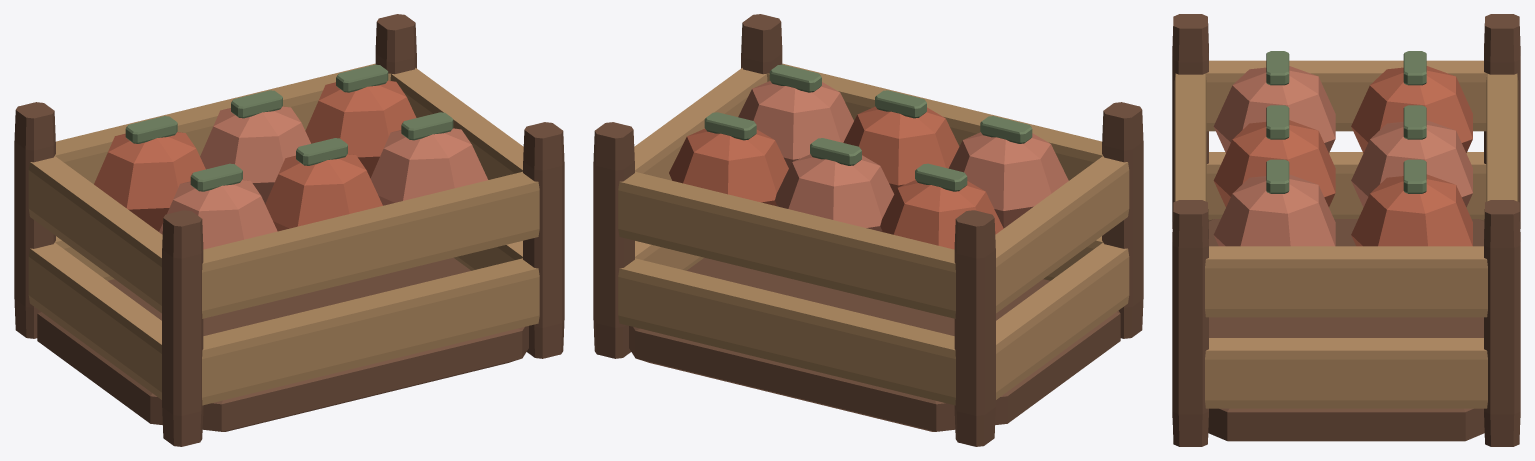
The model's file is food_crate.glb.
The picture shows the model from 3 angles, left to right: view 1: azimuth 30°, elevation 25°; view 2: azimuth 150°, elevation 25°; view 3: azimuth 270°, elevation 25°; orthographic projection. The views are drawn at different scales.
Parts seen in each view (by area): view 1: _MeshInstance3D_8, _MeshInstance3D_5, CrateBase, _MeshInstance3D_9, EndSlat, _MeshInstance3D_2, _MeshInstance3D_4, Harvest, _MeshInstance3D_19, _MeshInstance3D_17, _MeshInstance3D_13, _MeshInstance3D_11 (+12 smaller); view 2: _MeshInstance3D_7, LongSlat, CrateBase, _MeshInstance3D_9, EndSlat, CornerPost, _MeshInstance3D_3, _MeshInstance3D_15, _MeshInstance3D_13, _MeshInstance3D_11, _MeshInstance3D_19, _MeshInstance3D_17 (+12 smaller); view 3: _MeshInstance3D_10, _MeshInstance3D_6, CrateBase, _MeshInstance3D_3, _MeshInstance3D_4, _MeshInstance3D_9, _MeshInstance3D_19, _MeshInstance3D_13, _MeshInstance3D_15, _MeshInstance3D_17, _MeshInstance3D_11, Harvest (+11 smaller).
Boxes of the visible parts, <box> form: _MeshInstance3D_8: <box>202,171,539,318</box>; _MeshInstance3D_5: <box>202,258,539,405</box>; CrateBase: <box>37,257,528,431</box>; _MeshInstance3D_9: <box>28,156,162,313</box>; EndSlat: <box>28,242,161,399</box>; _MeshInstance3D_2: <box>162,210,203,446</box>; _MeshInstance3D_4: <box>523,122,564,358</box>; Harvest: <box>94,132,205,231</box>; _MeshInstance3D_19: <box>370,128,487,205</box>; _MeshInstance3D_17: <box>265,154,382,231</box>; _MeshInstance3D_13: <box>305,80,416,178</box>; _MeshInstance3D_11: <box>200,106,310,203</box>; _MeshInstance3D_7: <box>618,171,955,318</box>; LongSlat: <box>618,258,955,405</box>; CrateBase: <box>629,257,1120,431</box>; _MeshInstance3D_9: <box>995,156,1129,313</box>; EndSlat: <box>996,242,1129,399</box>; CornerPost: <box>954,210,995,446</box>; _MeshInstance3D_3: <box>593,122,634,358</box>; _MeshInstance3D_15: <box>948,132,1068,228</box>; _MeshInstance3D_13: <box>669,128,788,206</box>; _MeshInstance3D_11: <box>775,154,894,231</box>; _MeshInstance3D_19: <box>738,81,853,167</box>; _MeshInstance3D_17: <box>843,106,959,193</box>; _MeshInstance3D_10: <box>1205,246,1487,317</box>; _MeshInstance3D_6: <box>1205,338,1487,408</box>; CrateBase: <box>1172,219,1520,441</box>; _MeshInstance3D_3: <box>1484,200,1520,446</box>; _MeshInstance3D_4: <box>1172,200,1208,446</box>; _MeshInstance3D_9: <box>1206,60,1486,131</box>; _MeshInstance3D_19: <box>1213,174,1335,246</box>; _MeshInstance3D_13: <box>1351,174,1472,246</box>; _MeshInstance3D_15: <box>1213,66,1335,152</box>; _MeshInstance3D_17: <box>1213,120,1335,206</box>; _MeshInstance3D_11: <box>1351,120,1472,207</box>; Harvest: <box>1351,66,1472,152</box>.
Bounding box in the file's own units: 0.52 × 0.28 × 0.38.
